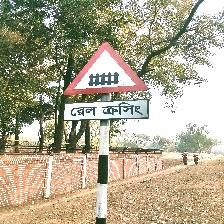Rail-crossing: (63, 41, 150, 122)
